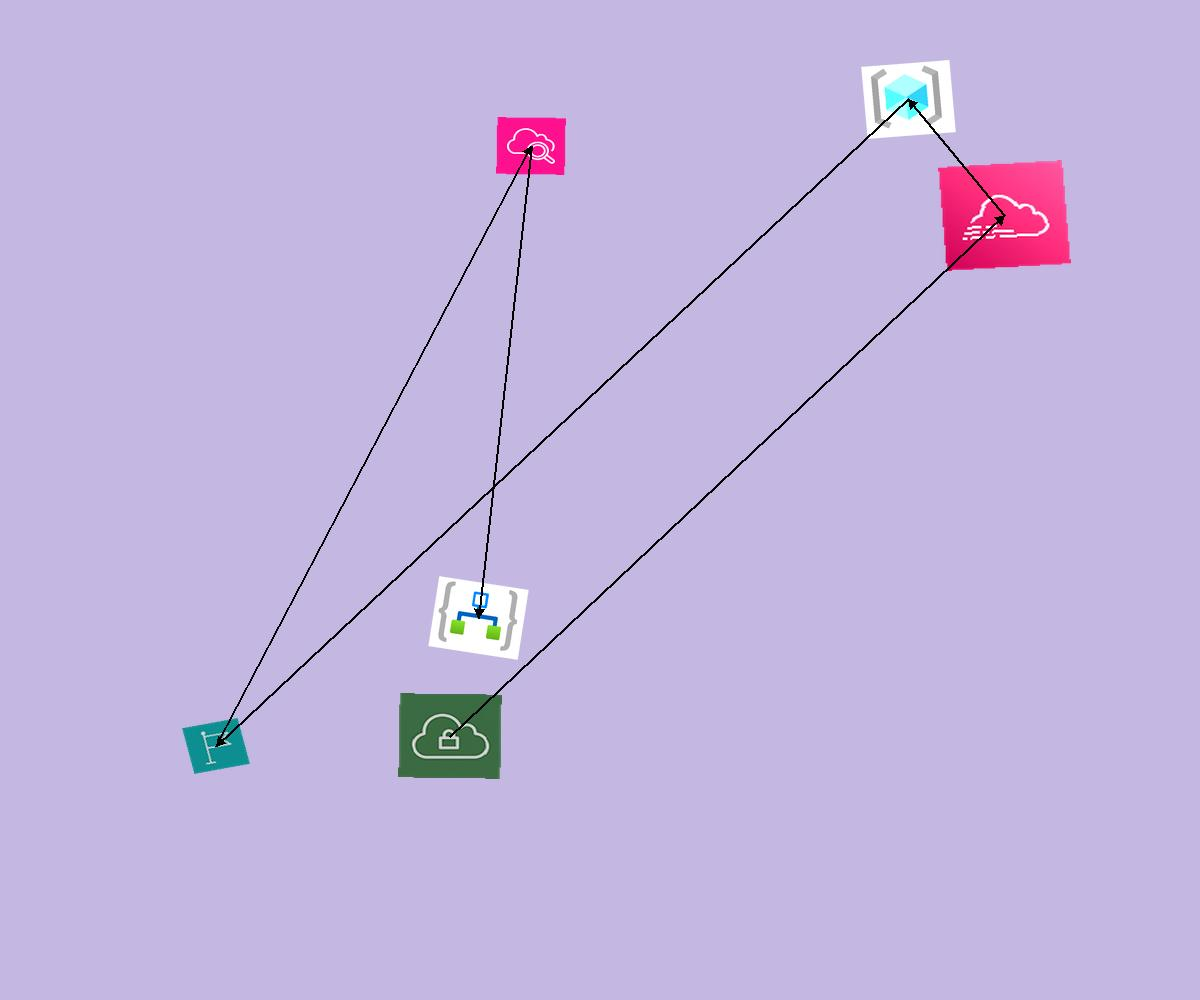AWS-CloudTrail: (938, 160, 1071, 271)
AWS-CloudWatch: (496, 117, 566, 175)
AWS-Private_vpc: (398, 693, 502, 779)
AWS-Region: (182, 718, 250, 774)
Azure_integration-204-Logic-Apps: (428, 576, 529, 660)
Azure_resource_group: (861, 60, 956, 139)
